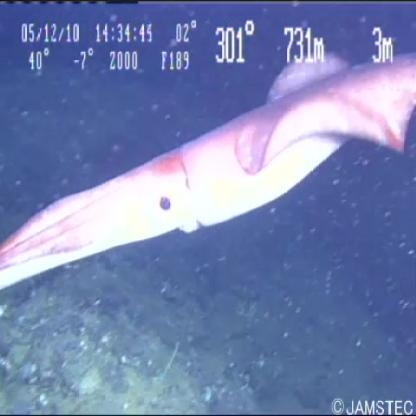Bio: (1, 45, 416, 292)
